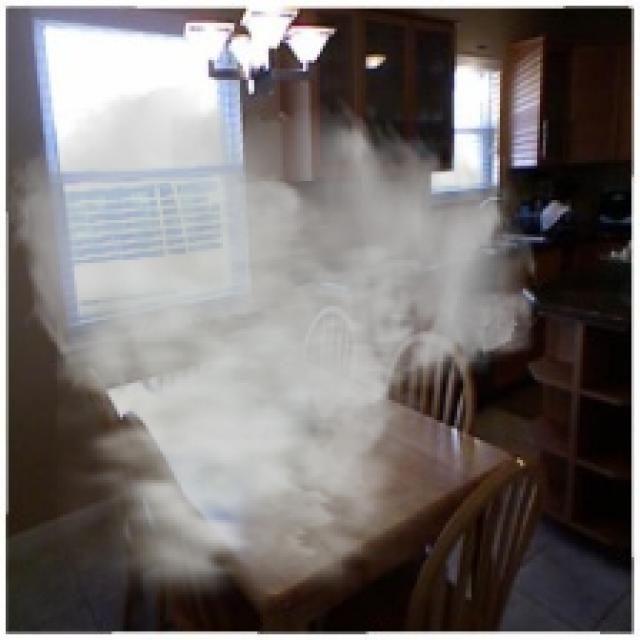smoke: (3, 83, 543, 623)
